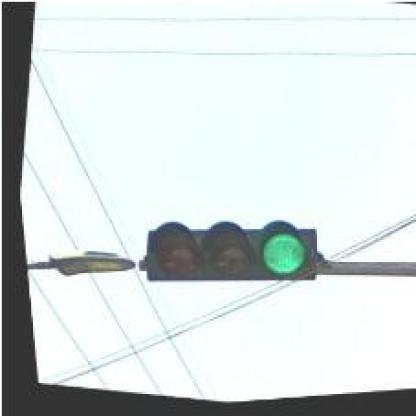green: (128, 200, 319, 313)
